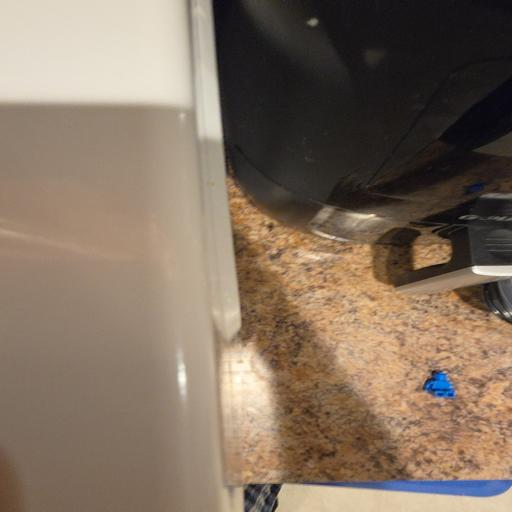Blue: (424, 371, 455, 398)
